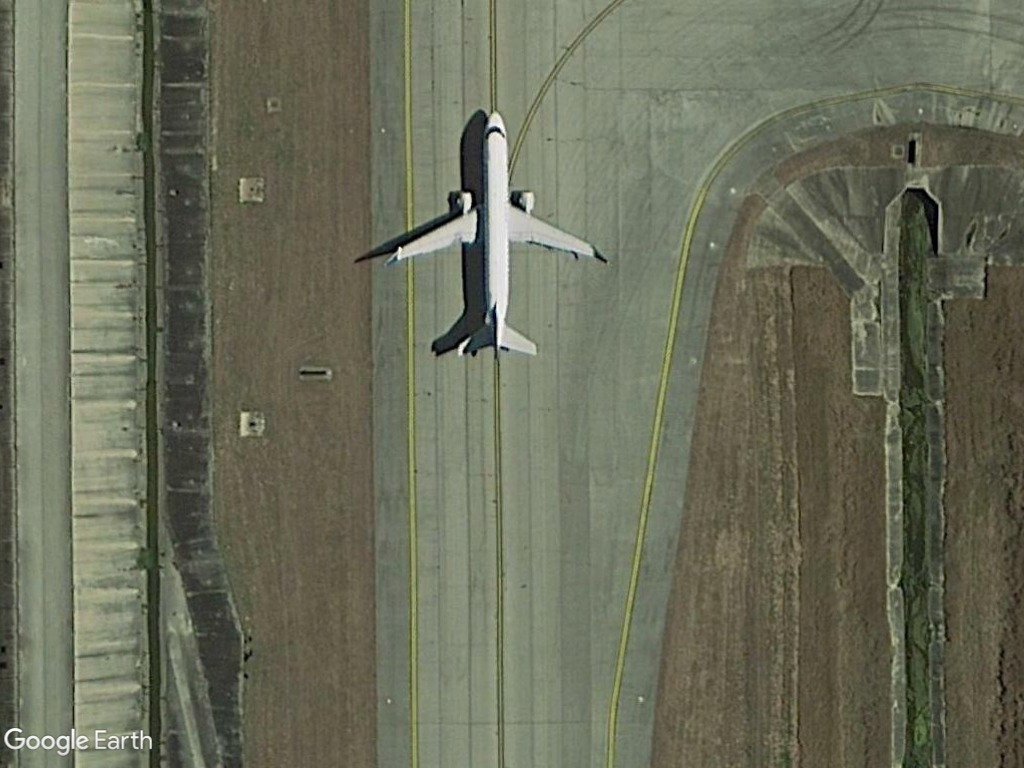airliner: (385, 103, 608, 372)
